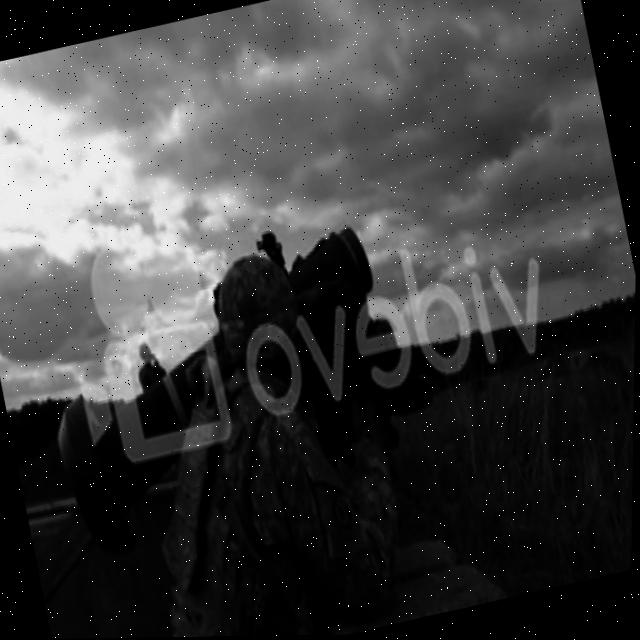rocket: (43, 336, 261, 569)
